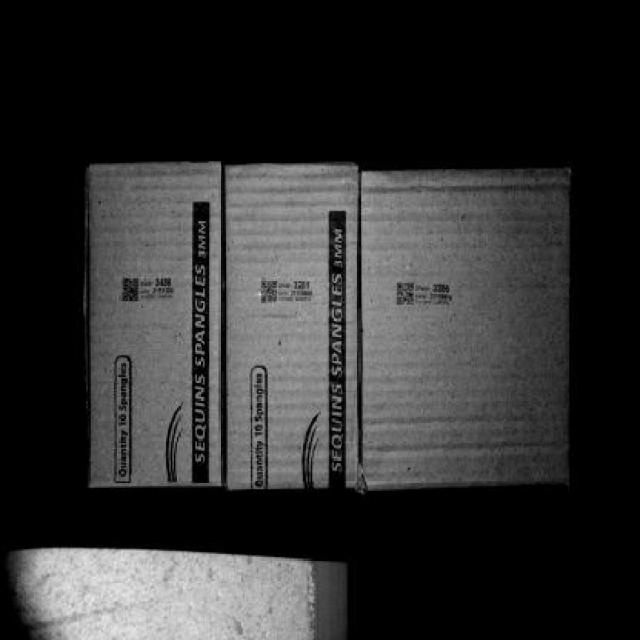cardboxes: (369, 172, 569, 485), (232, 164, 363, 496), (94, 169, 218, 485)
